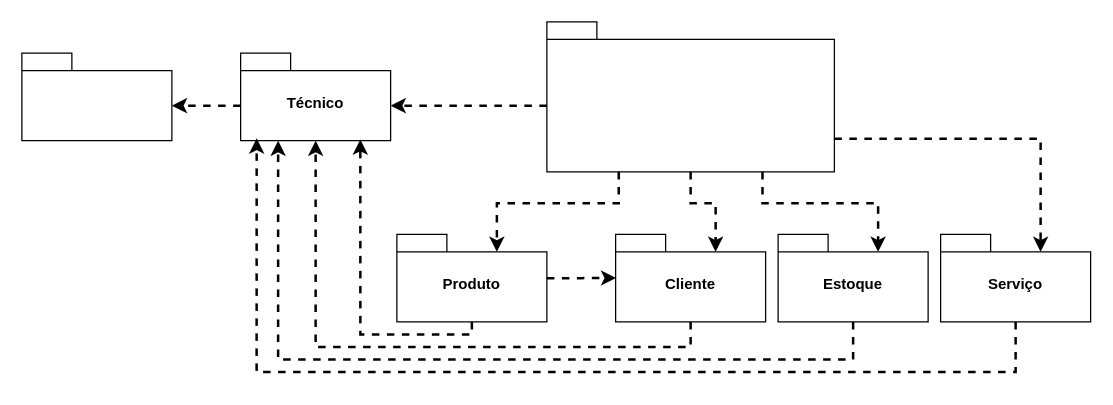
Some shapes in this 1113 by 405 pixel diagram are drawn without their labels. The centre of each missing label's shape, as x and y in pixels:
"Login" belongs at (96,96).
"Ordem de Serviço" belongs at (690,96).
